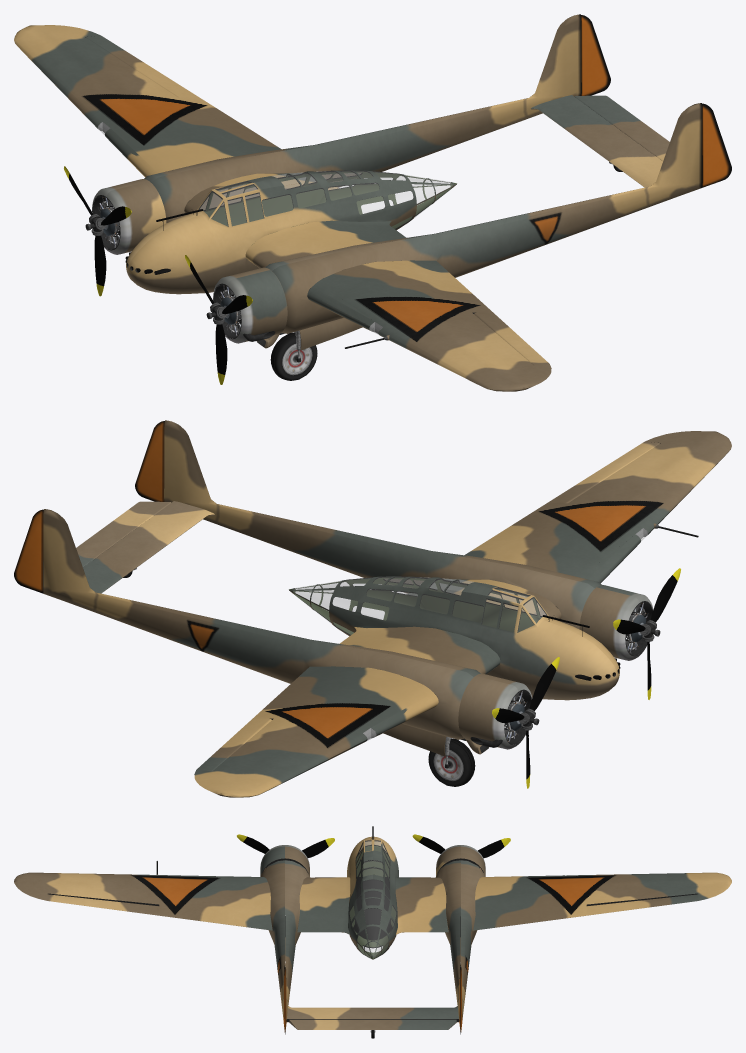
The picture shows the model from 3 angles, top to bottom: view 1: azimuth 30°, elevation 25°; view 2: azimuth 150°, elevation 25°; view 3: azimuth 270°, elevation 25°; orthographic projection. The views are drawn at different scales.
Parts seen in each view (by area): view 1: Mesh_22; view 2: Mesh_22; view 3: Mesh_22.
Boxes of the visible parts, left/top/right/bottom form: Mesh_22: left=14, top=14, right=731, bottom=391; Mesh_22: left=14, top=420, right=731, bottom=797; Mesh_22: left=14, top=826, right=731, bottom=1038.
Bounding box in the file's own units: 1086 × 340 × 1715.
Materials: 5 (4 with a texture image).
